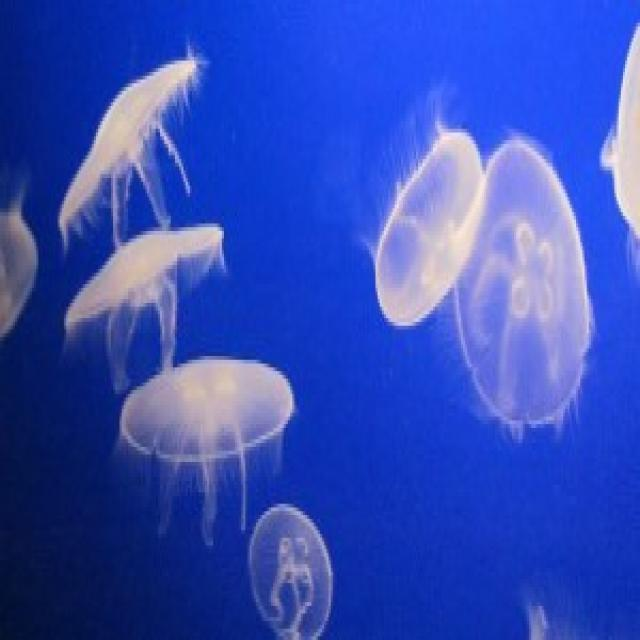Jellyfish: (468, 126, 591, 453), (62, 52, 210, 256), (114, 349, 299, 508), (359, 133, 475, 344), (65, 220, 234, 346), (240, 507, 342, 640)
